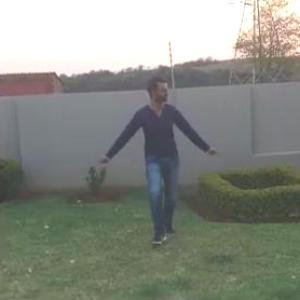land: (96, 76, 217, 249)
